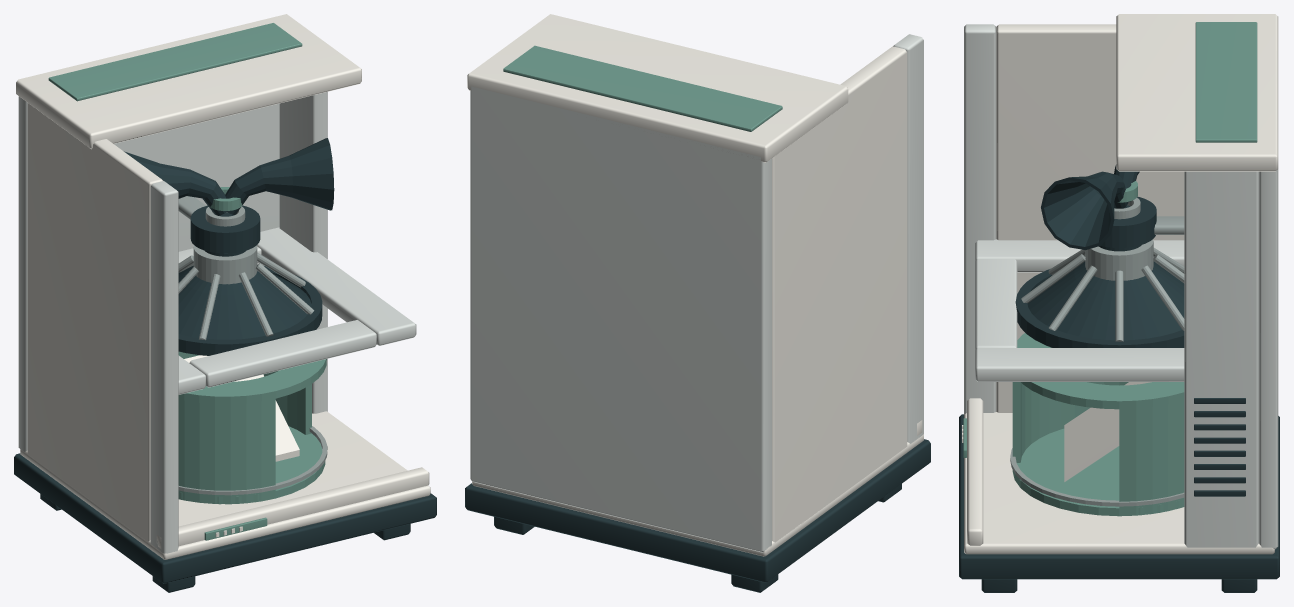
Rendered from rotary-speaker.glb.
3 views of the same model, side by side, from view 1: azimuth 30°, elevation 25°; view 2: azimuth 150°, elevation 25°; view 3: azimuth 270°, elevation 25° (orthographic). The views are drawn at different scales.
Visible parts, largest first — view 1: Leslie.assembly.Surface.Porcelain, Leslie.assembly.Surface.Chalk, Drum.pivot_Z.Surface.Mineral, Leslie.assembly.Surface.Graphite, Woofer.fixed_driver.Surface.Graphite, Leslie.assembly.Surface.Mineral, Horn.pivot_Z.Surface.Graphite, Woofer.fixed_driver.Surface.Aluminium, Drum.pivot_Z.Surface.Aluminium, Drum.pivot_Z.Surface.Porcelain, Leslie.assembly.Surface.Aluminium; view 2: Leslie.assembly.Surface.Chalk, Leslie.assembly.Surface.Porcelain, Leslie.assembly.Surface.Graphite, Leslie.assembly.Surface.Mineral; view 3: Leslie.assembly.Surface.Porcelain, Leslie.assembly.Surface.Chalk, Drum.pivot_Z.Surface.Mineral, Leslie.assembly.Surface.Graphite, Woofer.fixed_driver.Surface.Graphite, Leslie.assembly.Surface.Mineral, Horn.pivot_Z.Surface.Graphite, Woofer.fixed_driver.Surface.Aluminium, Drum.pivot_Z.Surface.Porcelain, Drum.pivot_Z.Surface.Aluminium, Leslie.assembly.Surface.Aluminium.
Part boxes in pixels (left/top/right/bottom): Leslie.assembly.Surface.Porcelain: left=16, top=14, right=430, bottom=559; Leslie.assembly.Surface.Chalk: left=18, top=92, right=416, bottom=553; Drum.pivot_Z.Surface.Mineral: left=178, top=351, right=326, bottom=504; Leslie.assembly.Surface.Graphite: left=14, top=205, right=436, bottom=592; Woofer.fixed_driver.Surface.Graphite: left=178, top=250, right=322, bottom=355; Leslie.assembly.Surface.Mineral: left=48, top=23, right=302, bottom=540; Horn.pivot_Z.Surface.Graphite: left=124, top=138, right=334, bottom=215; Woofer.fixed_driver.Surface.Aluminium: left=178, top=245, right=314, bottom=340; Drum.pivot_Z.Surface.Aluminium: left=178, top=426, right=327, bottom=495; Drum.pivot_Z.Surface.Porcelain: left=184, top=355, right=299, bottom=461; Leslie.assembly.Surface.Aluminium: left=178, top=196, right=245, bottom=226; Leslie.assembly.Surface.Chalk: left=470, top=34, right=923, bottom=552; Leslie.assembly.Surface.Porcelain: left=467, top=14, right=923, bottom=556; Leslie.assembly.Surface.Graphite: left=465, top=439, right=930, bottom=592; Leslie.assembly.Surface.Mineral: left=503, top=45, right=782, bottom=131; Leslie.assembly.Surface.Porcelain: left=962, top=14, right=1278, bottom=554; Leslie.assembly.Surface.Chalk: left=964, top=24, right=1278, bottom=548; Drum.pivot_Z.Surface.Mineral: left=1012, top=333, right=1184, bottom=516; Leslie.assembly.Surface.Graphite: left=959, top=196, right=1279, bottom=592; Woofer.fixed_driver.Surface.Graphite: left=1015, top=245, right=1184, bottom=347; Leslie.assembly.Surface.Mineral: left=963, top=22, right=1257, bottom=457; Horn.pivot_Z.Surface.Graphite: left=1041, top=164, right=1139, bottom=250; Woofer.fixed_driver.Surface.Aluminium: left=1021, top=239, right=1184, bottom=341; Drum.pivot_Z.Surface.Porcelain: left=1064, top=382, right=1151, bottom=481; Drum.pivot_Z.Surface.Aluminium: left=1010, top=448, right=1184, bottom=506; Leslie.assembly.Surface.Aluminium: left=1114, top=198, right=1184, bottom=234.
Size of the model in its own units: 2.1 by 3.06 by 1.98.
